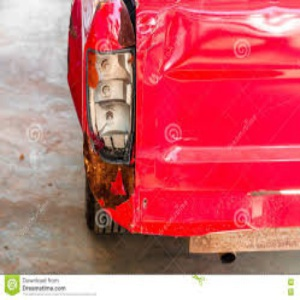tail_lights: (73, 43, 139, 165)
